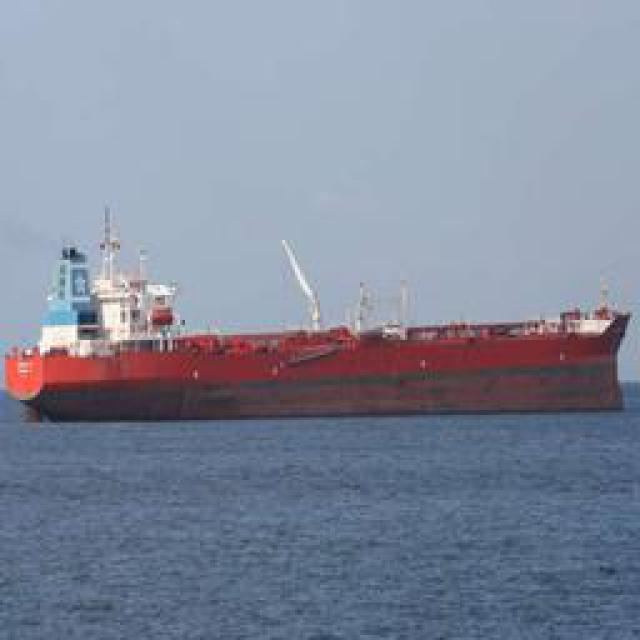Ship: (13, 230, 631, 423)
